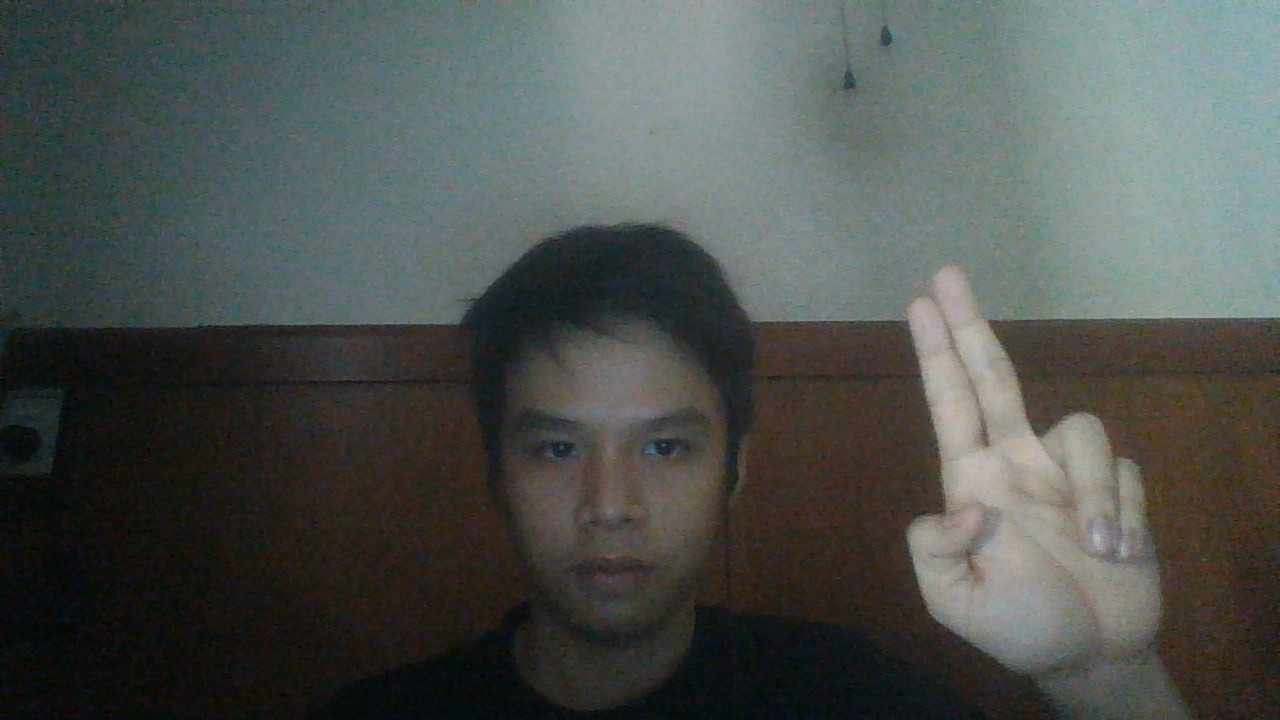write1: (904, 266, 1166, 673)
